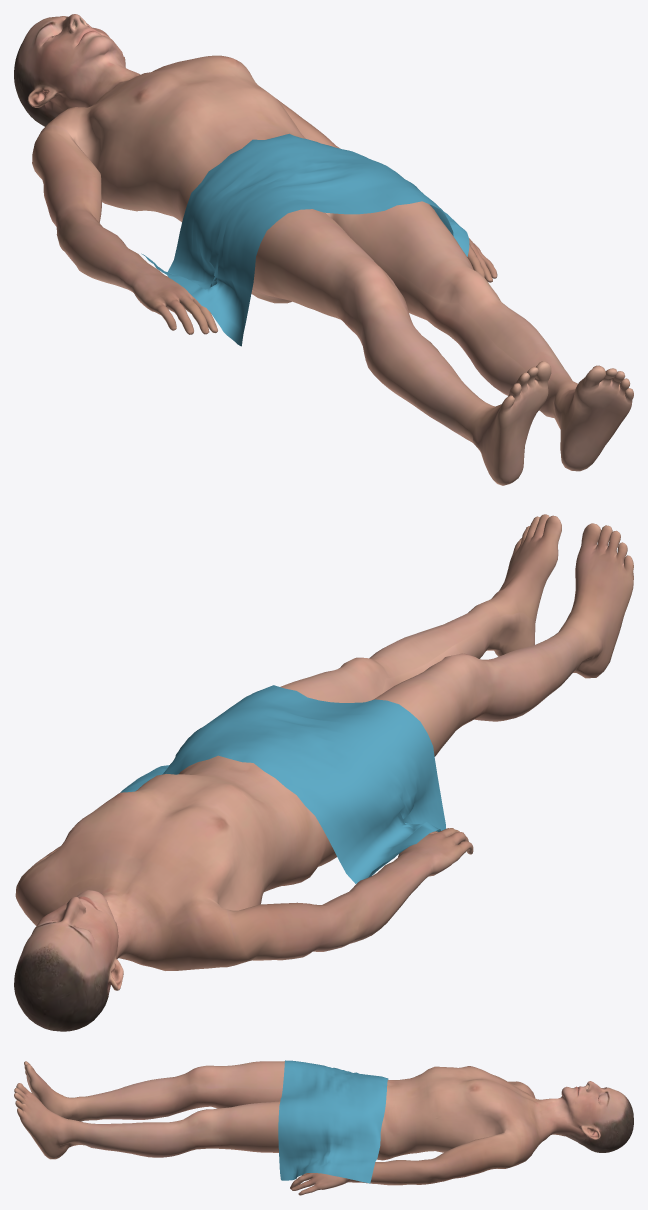
The model's file is patient.glb.
3 views of the same model, one above another, from view 1: azimuth 30°, elevation 25°; view 2: azimuth 150°, elevation 25°; view 3: azimuth 270°, elevation 25° (orthographic). The views are drawn at different scales.
Parts seen in each view (by area): view 1: Body_Patient_0, Serviette_Serviette_0; view 2: Body_Patient_0, Serviette_Serviette_0; view 3: Body_Patient_0, Serviette_Serviette_0.
Part boxes in pixels (left/top/right/bottom): Body_Patient_0: left=14, top=14, right=633, bottom=485; Serviette_Serviette_0: left=141, top=133, right=469, bottom=346; Body_Patient_0: left=14, top=514, right=633, bottom=1031; Serviette_Serviette_0: left=120, top=685, right=445, bottom=883; Body_Patient_0: left=14, top=1061, right=633, bottom=1195; Serviette_Serviette_0: left=278, top=1060, right=388, bottom=1183.
Size of the model in its own units: 64.24 by 26.96 by 186.
Materials: 2 (1 with a texture image).
